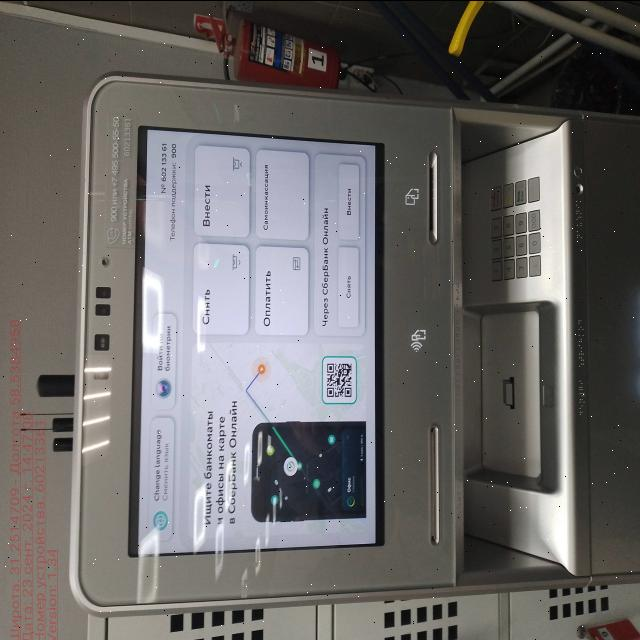bank: (65, 70, 640, 612)
